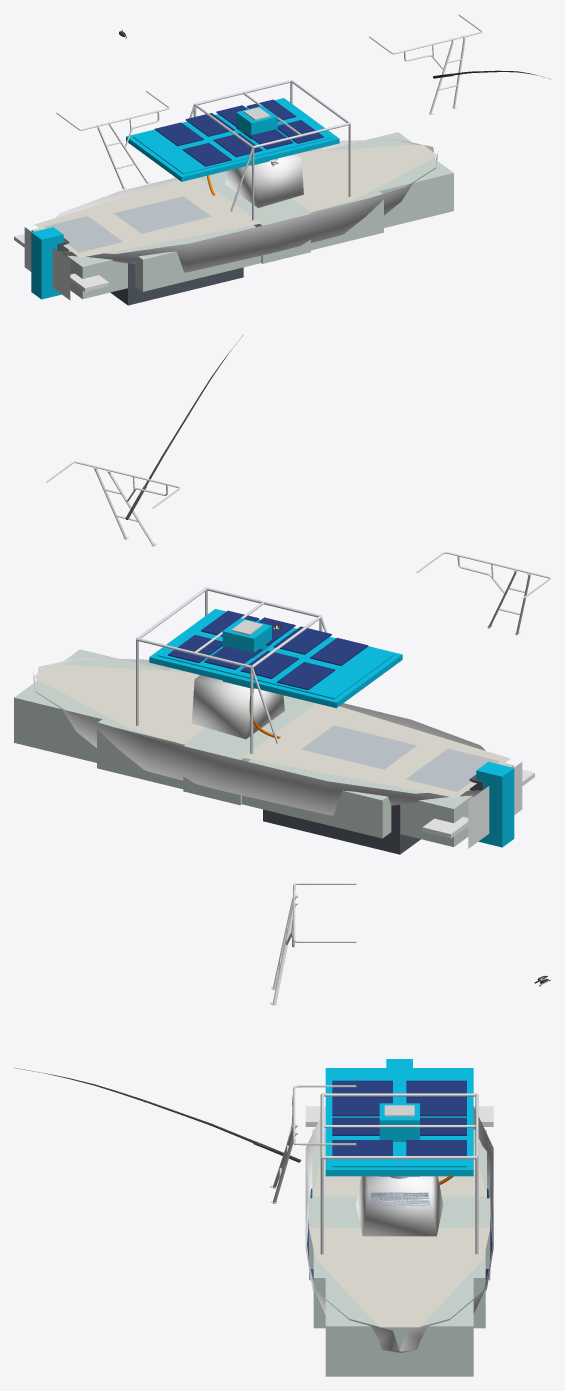
The model's file is BOAT_UNREAL_V0.fbx.
The picture shows the model from 3 angles, top to bottom: view 1: azimuth 30°, elevation 25°; view 2: azimuth 150°, elevation 25°; view 3: azimuth 270°, elevation 25°; orthographic projection. The views are drawn at different scales.
Visible parts, largest first — view 1: HULL_MAIN.001, DECK_AFT, DECK_BOW, COMP_BOW_LOCKER, COMP_BATTERY_ZONE, PROXY_SOLAR_AREA, CONSOLE_BODY, COMP_CONSOLE_ZONE, PROXY_HARDTOP, DECK_HATCH_BATTERY, COMP_ENGINE_ROOM, Cylinder (+17 smaller); view 2: HULL_MAIN.001, DECK_AFT, DECK_BOW, COMP_BOW_LOCKER, COMP_BATTERY_ZONE, PROXY_SOLAR_AREA, CONSOLE_BODY, COMP_CONSOLE_ZONE, PROXY_HARDTOP, DECK_HATCH_BATTERY, COMP_ENGINE_ROOM, PROXY_OUTBOARD_CLEARANCE (+14 smaller); view 3: COMP_BOW_LOCKER, DECK_BOW, CONSOLE_BODY, DECK_MID, PROXY_SOLAR_AREA, HULL_MAIN.001, COMP_CONSOLE_ZONE, PROXY_HARDTOP, Cylinder, DECK_AFT, COMP_WORK_AREA, PROXY_HELM_OPERATOR (+13 smaller).
Part boxes in pixels (bbox=[...]): HULL_MAIN.001: bbox=[56, 139, 438, 272]; DECK_AFT: bbox=[34, 178, 260, 257]; DECK_BOW: bbox=[297, 144, 437, 198]; COMP_BOW_LOCKER: bbox=[324, 132, 453, 227]; COMP_BATTERY_ZONE: bbox=[128, 225, 261, 291]; PROXY_SOLAR_AREA: bbox=[133, 100, 332, 174]; CONSOLE_BODY: bbox=[225, 154, 303, 207]; COMP_CONSOLE_ZONE: bbox=[199, 171, 310, 263]; PROXY_HARDTOP: bbox=[126, 98, 339, 181]; DECK_HATCH_BATTERY: bbox=[114, 196, 210, 233]; COMP_ENGINE_ROOM: bbox=[31, 228, 131, 299]; Cylinder: bbox=[56, 14, 482, 189]; HULL_MAIN.001: bbox=[32, 658, 485, 815]; DECK_AFT: bbox=[242, 703, 510, 797]; DECK_BOW: bbox=[33, 664, 199, 728]; COMP_BOW_LOCKER: bbox=[14, 649, 167, 762]; COMP_BATTERY_ZONE: bbox=[242, 759, 399, 838]; PROXY_SOLAR_AREA: bbox=[157, 611, 394, 699]; CONSOLE_BODY: bbox=[191, 675, 284, 739]; COMP_CONSOLE_ZONE: bbox=[183, 695, 315, 805]; PROXY_HARDTOP: bbox=[149, 609, 402, 708]; DECK_HATCH_BATTERY: bbox=[301, 725, 416, 769]; COMP_ENGINE_ROOM: bbox=[396, 763, 513, 846]; PROXY_OUTBOARD_CLEARANCE: bbox=[476, 761, 514, 847]; COMP_BOW_LOCKER: bbox=[325, 1278, 473, 1376]; DECK_BOW: bbox=[316, 1259, 483, 1327]; CONSOLE_BODY: bbox=[356, 1176, 443, 1236]; DECK_MID: bbox=[309, 1228, 490, 1258]; PROXY_SOLAR_AREA: bbox=[332, 1069, 466, 1167]; HULL_MAIN.001: bbox=[305, 1106, 493, 1352]; COMP_CONSOLE_ZONE: bbox=[309, 1198, 490, 1280]; PROXY_HARDTOP: bbox=[325, 1068, 473, 1176]; Cylinder: bbox=[270, 883, 356, 1203]; DECK_AFT: bbox=[312, 1142, 486, 1196]; COMP_WORK_AREA: bbox=[313, 1250, 485, 1328]; PROXY_HELM_OPERATOR: bbox=[379, 1103, 419, 1176].
Bounding box in the file's own units: 9.26 × 7.99 × 5.23.
